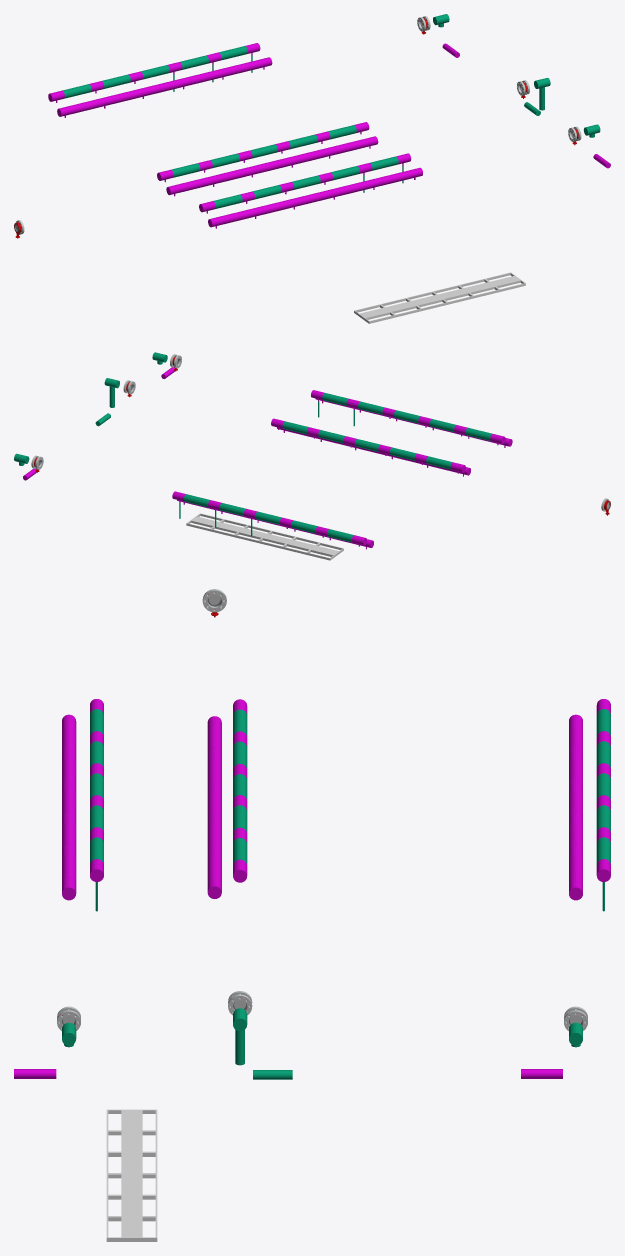
3 views of the same model, one above another, from view 1: azimuth 30°, elevation 25°; view 2: azimuth 150°, elevation 25°; view 3: azimuth 270°, elevation 25° (orthographic). The views are drawn at different scales.
Bounding box in the file's own units: 12.4 × 3.64 × 7.07.
